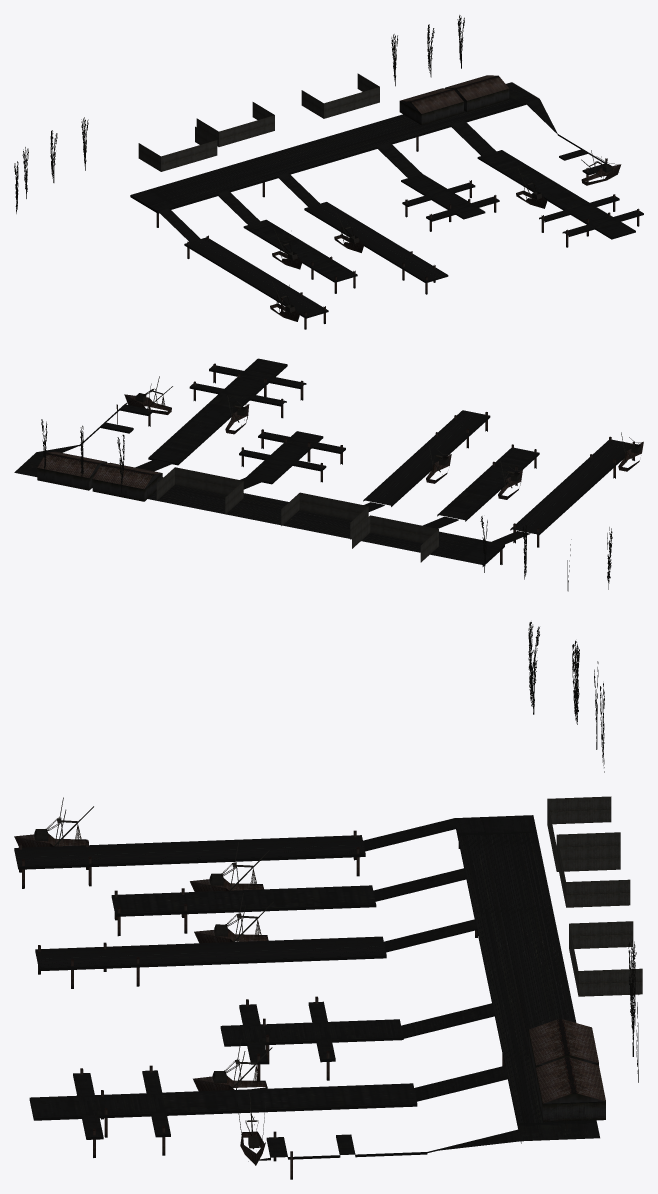
Rendered from cell_15_-13.gltf.
3 renders of one model, top to bottom at view 1: azimuth 30°, elevation 25°; view 2: azimuth 150°, elevation 25°; view 3: azimuth 270°, elevation 25°, orthographic. The views are drawn at different scales.
Parts seen in each view (by area): view 1: cell_15_-13; view 2: cell_15_-13; view 3: cell_15_-13.
Boxes of the visible parts, x1,y1,x2,y2 form: cell_15_-13: (14,15,643,329); cell_15_-13: (14,358,643,591); cell_15_-13: (14,622,642,1179).
Bounding box in the file's own units: 251 × 43.21 × 159.
Materials: 7 (7 with a texture image).
